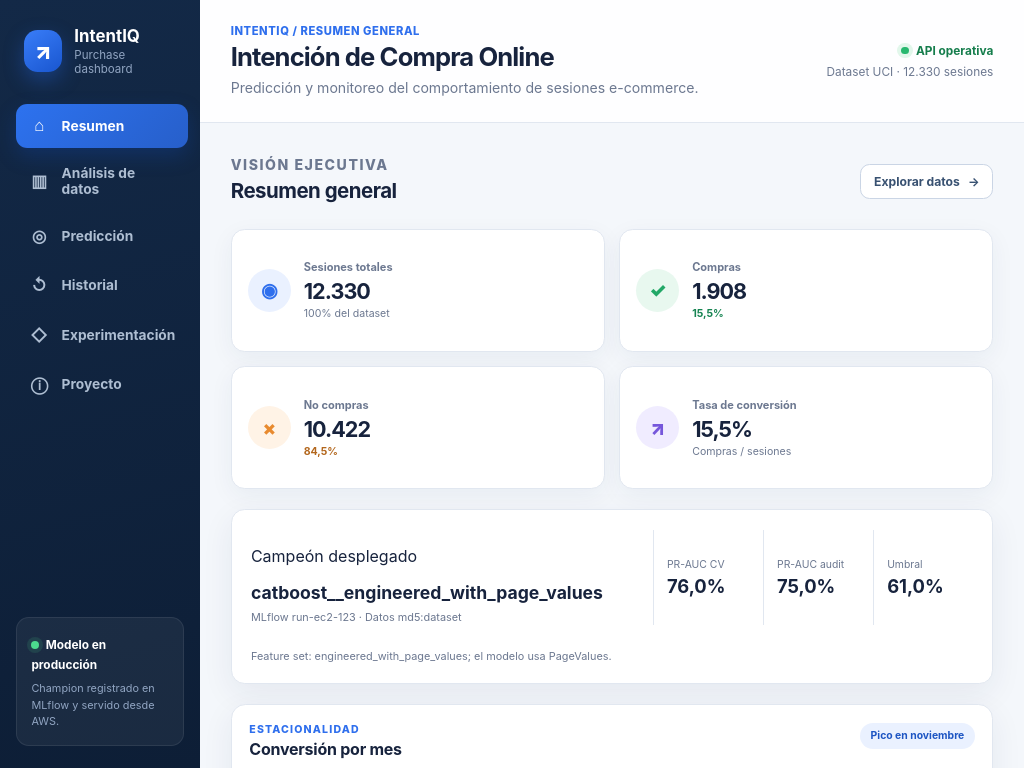
it: navigates to the real experiment leaderboard
Click the button "◇ Experimentación". click: click(102, 335)
box: [16, 313, 188, 357]
(page scrolled)
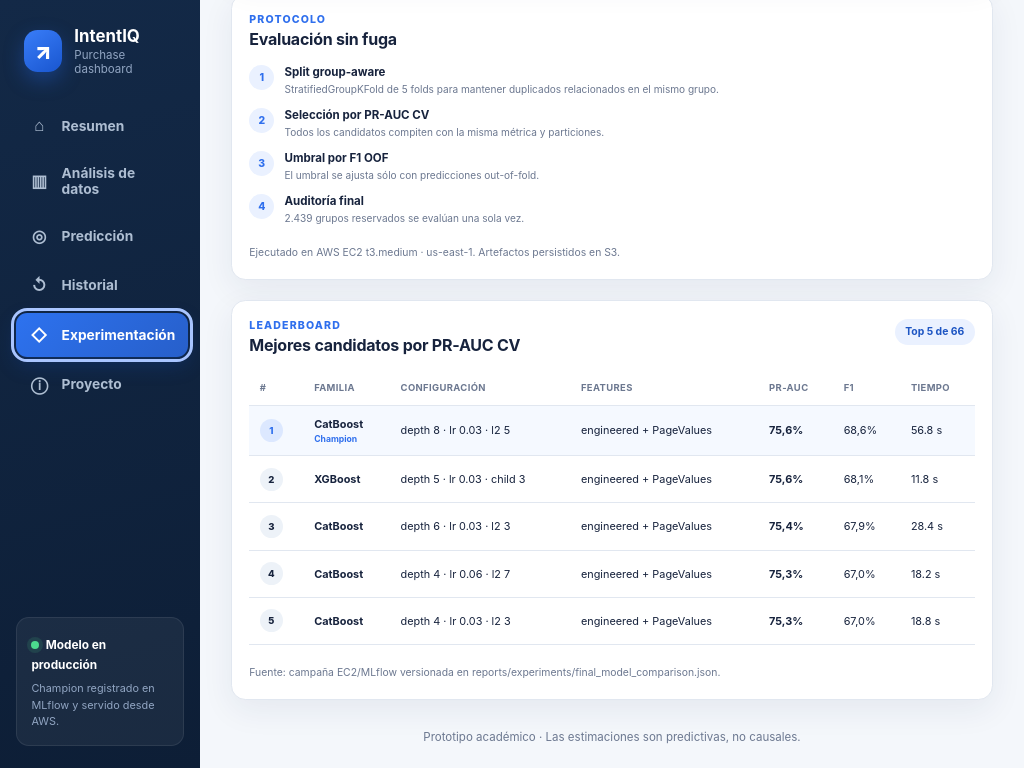
Now the table shows "XGBoost", box [314, 472, 360, 486]
